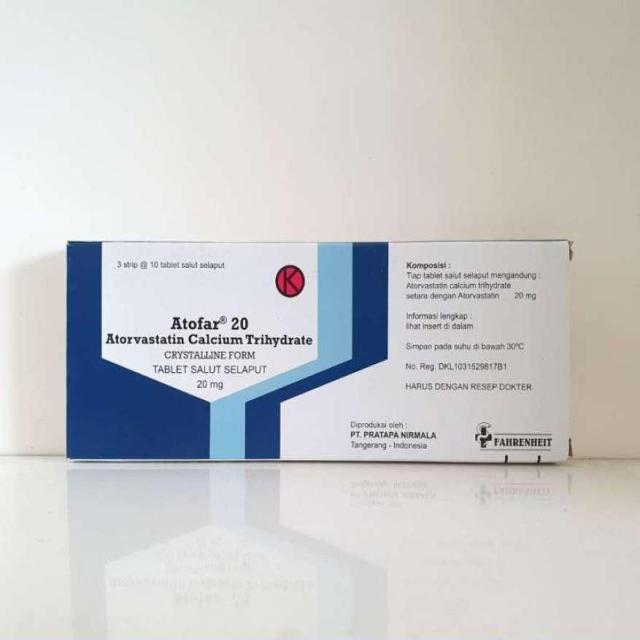drug-name: (166, 313, 250, 332)
